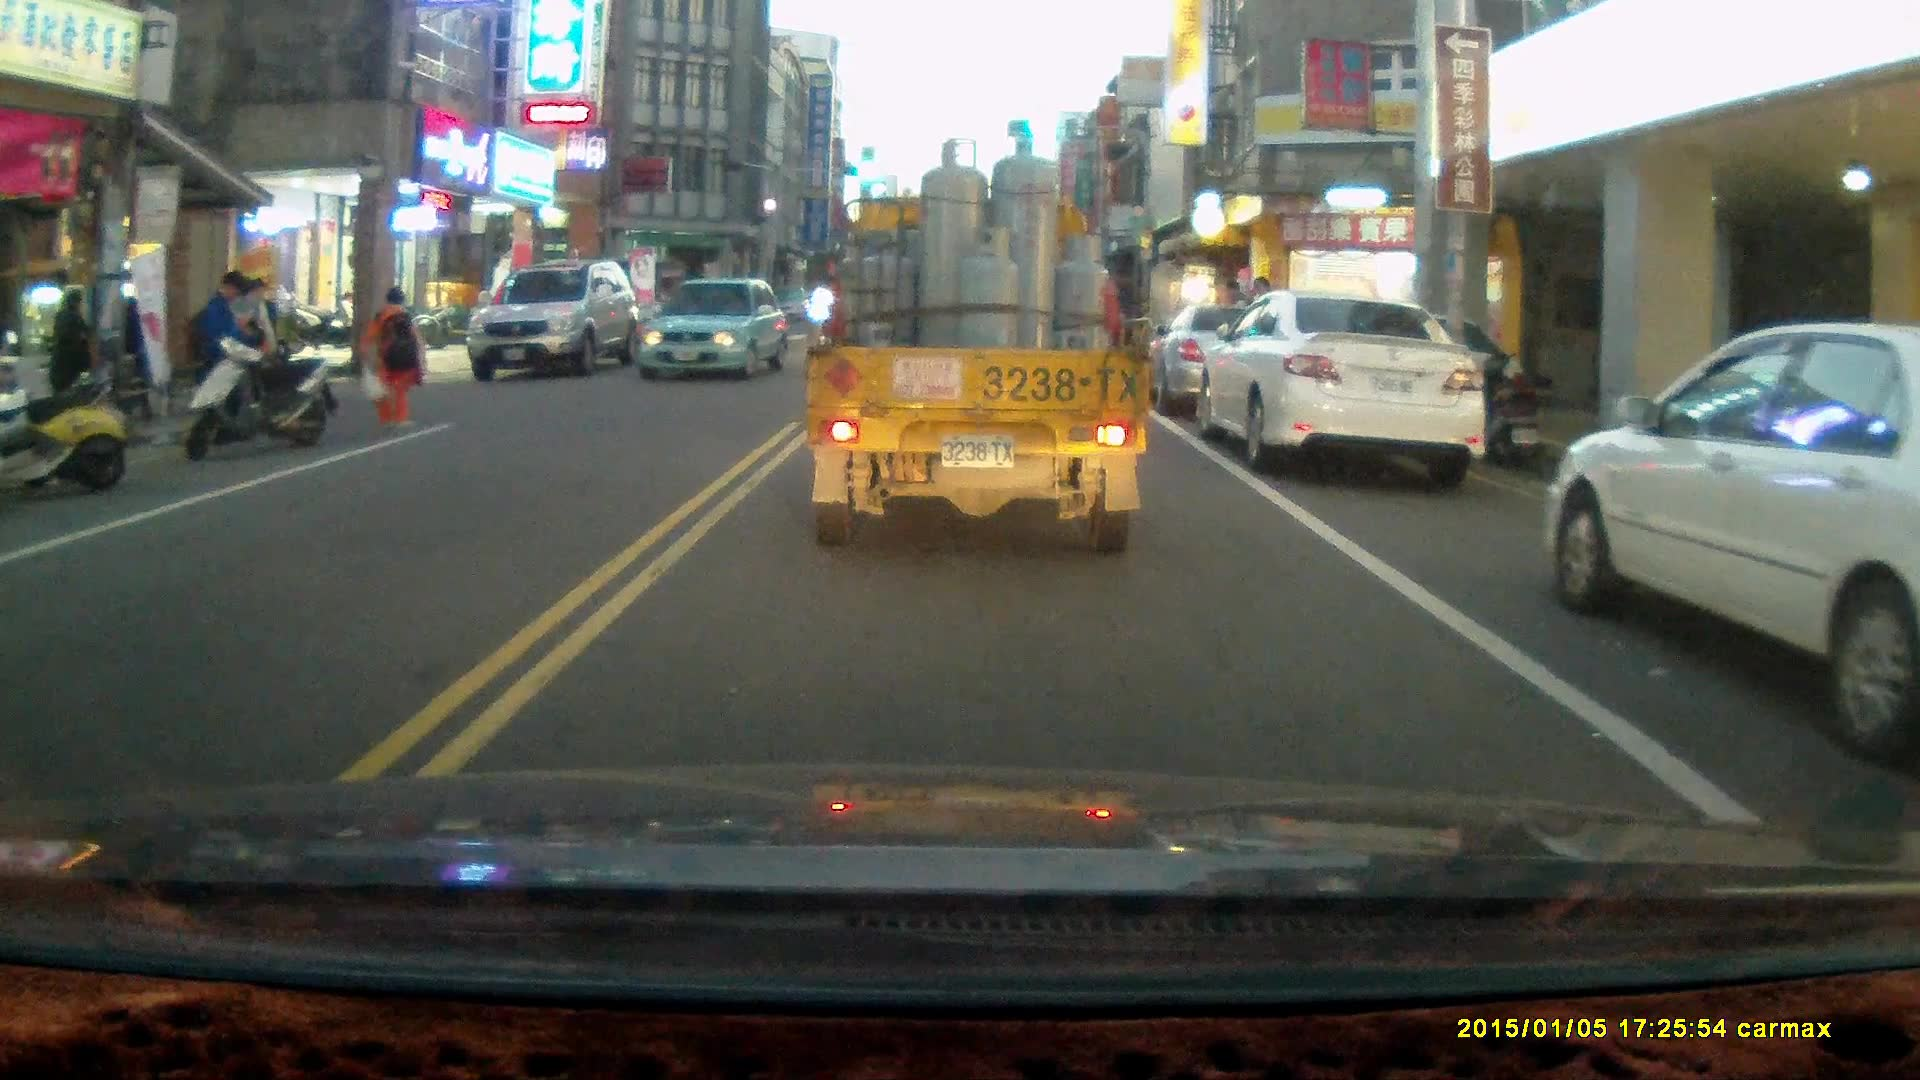pedestrian: (179, 271, 253, 444), (364, 284, 429, 426), (43, 286, 91, 444)
vehicle: (1542, 320, 1920, 762), (804, 131, 1158, 557), (1198, 289, 1487, 481), (1144, 300, 1359, 422), (471, 260, 640, 387), (636, 278, 790, 384)
